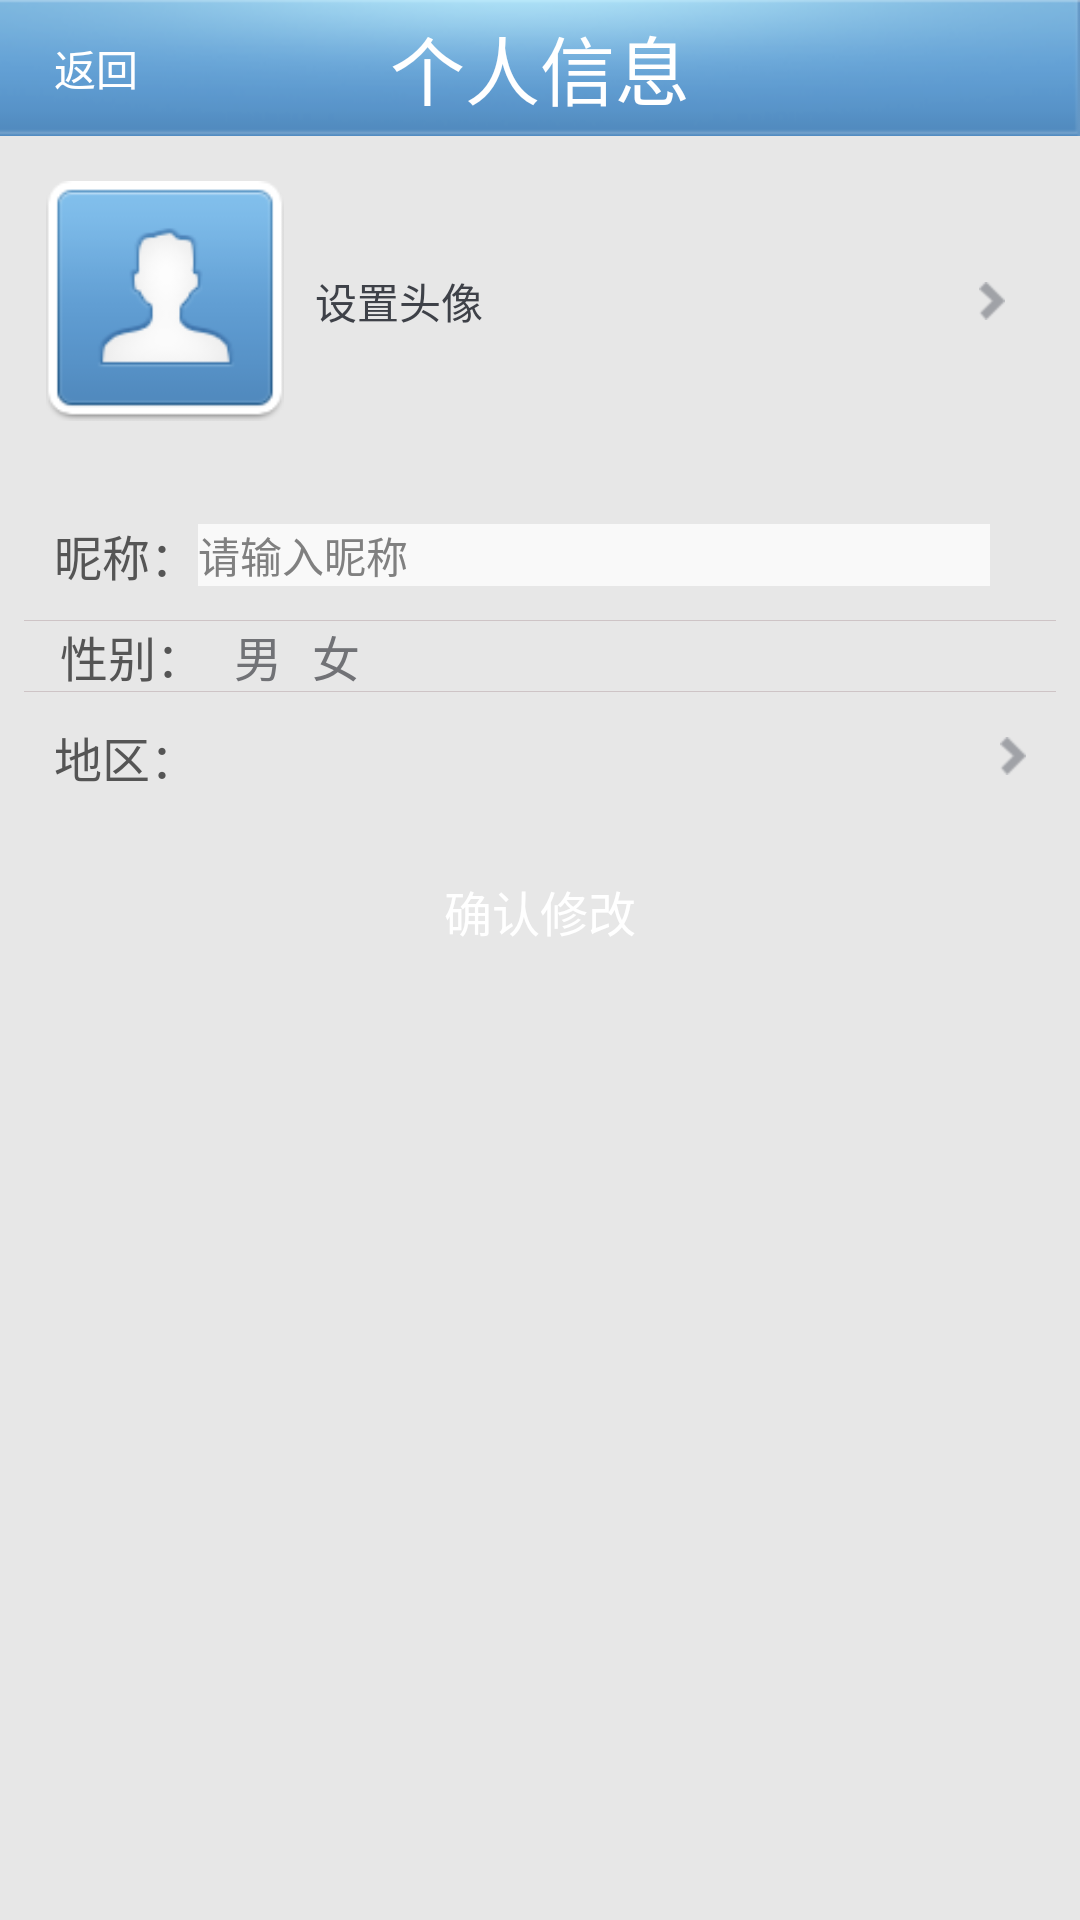

Point at icon controls on the screen. Image size 1080px x 1920px, points as [x,y].
arrow: [992,301]
photo: [165,304]
